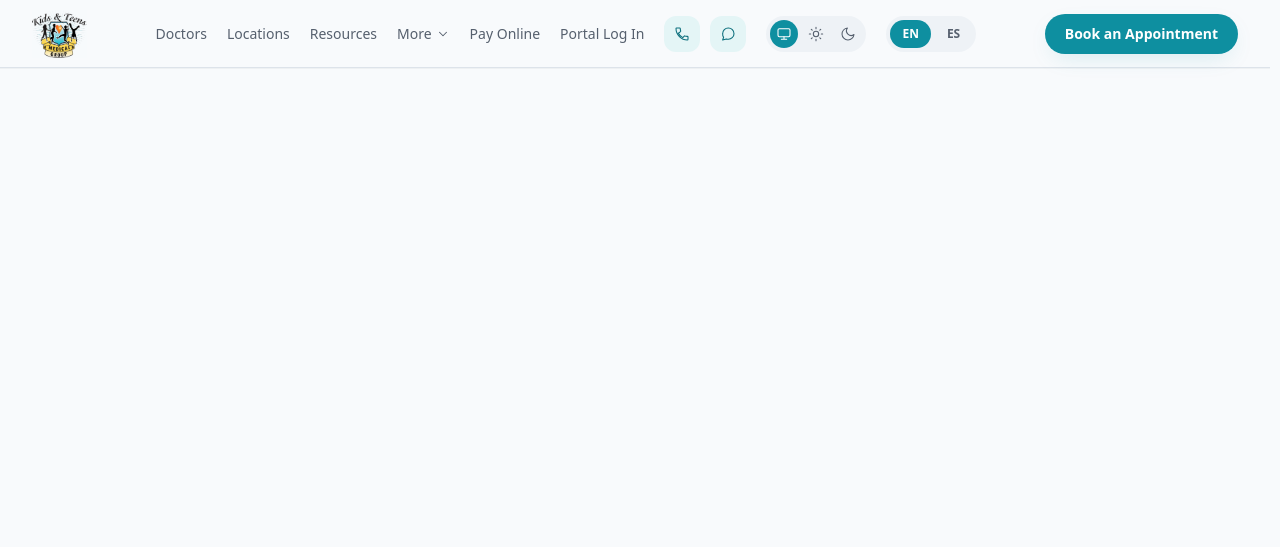
Header › toggles the desktop 'More' dropdown open and closed
Click the button "More".
click(423, 34)  # box [397, 24, 450, 44]
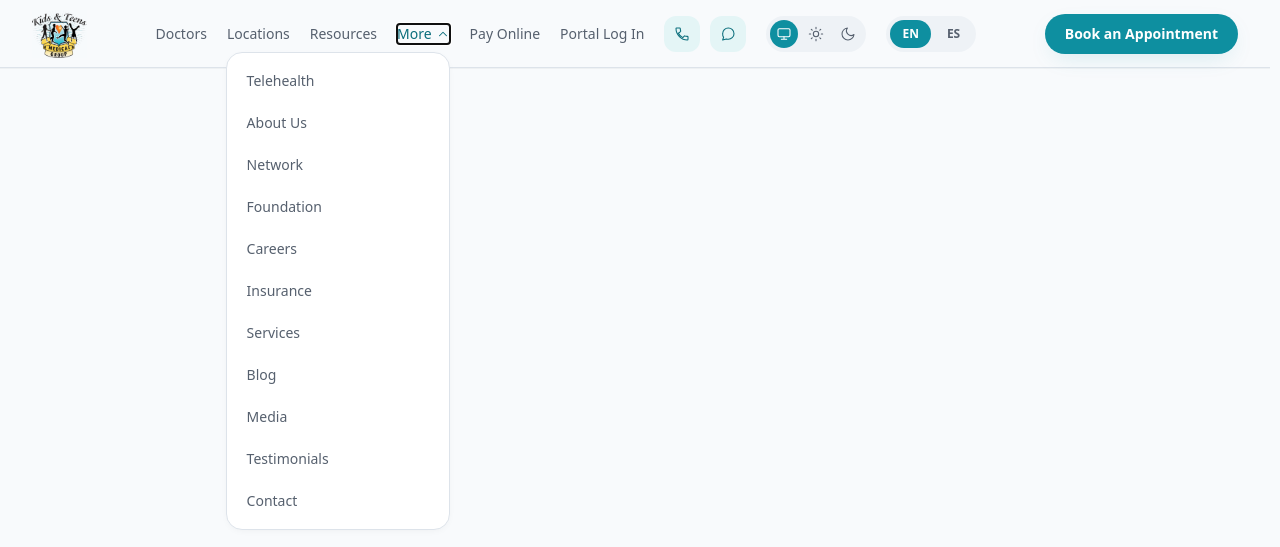
Result: the button "More" is expanded
Click the button "More".
click(423, 34)  # box [397, 24, 450, 44]
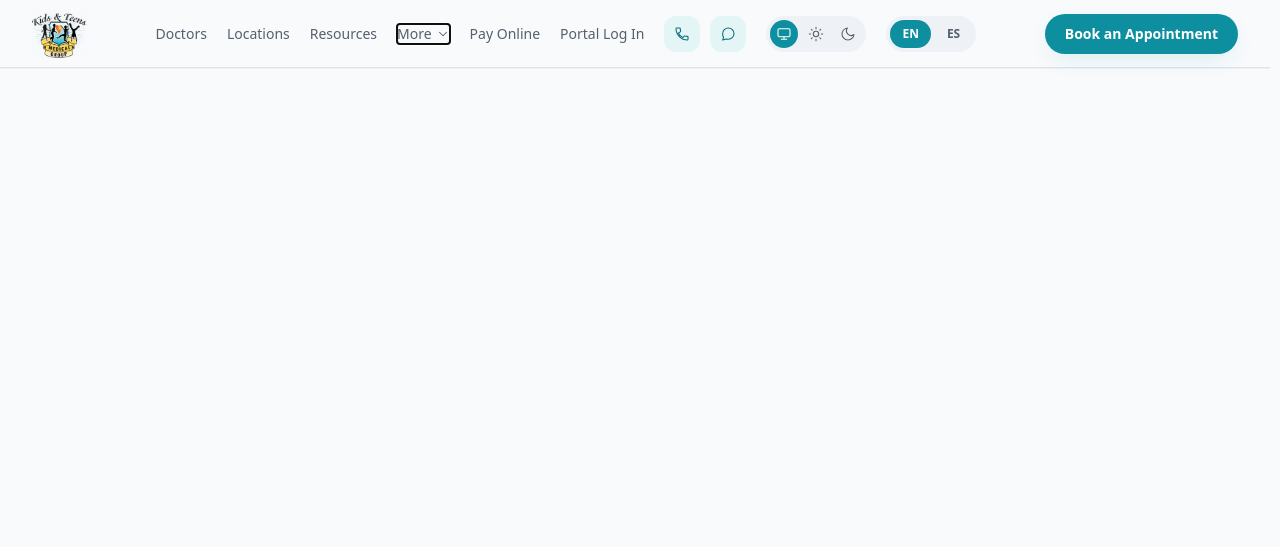
Result: the button "More" is collapsed at [397, 24, 450, 44]
